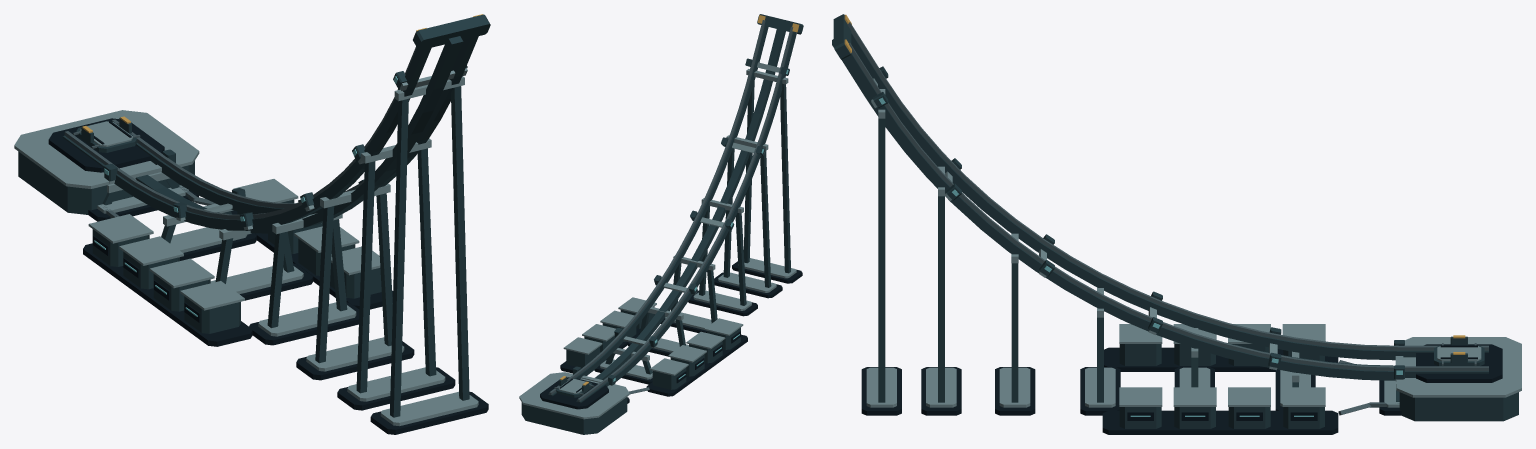
File: arc01_launcher_d0_lod2.glb
3 views of the same model, side by side, from view 1: azimuth 30°, elevation 25°; view 2: azimuth 150°, elevation 25°; view 3: azimuth 270°, elevation 25° (orthographic). The views are drawn at different scales.
Parts seen in each view (by area): view 1: DISTANCE_STATIC; view 2: DISTANCE_STATIC; view 3: DISTANCE_STATIC.
Boxes of the visible parts, <box> form: DISTANCE_STATIC: <box>14,14,490,434</box>; DISTANCE_STATIC: <box>519,14,803,434</box>; DISTANCE_STATIC: <box>832,14,1521,434</box>.
Size of the model in its own units: 13.1 by 27.02 by 46.23.
